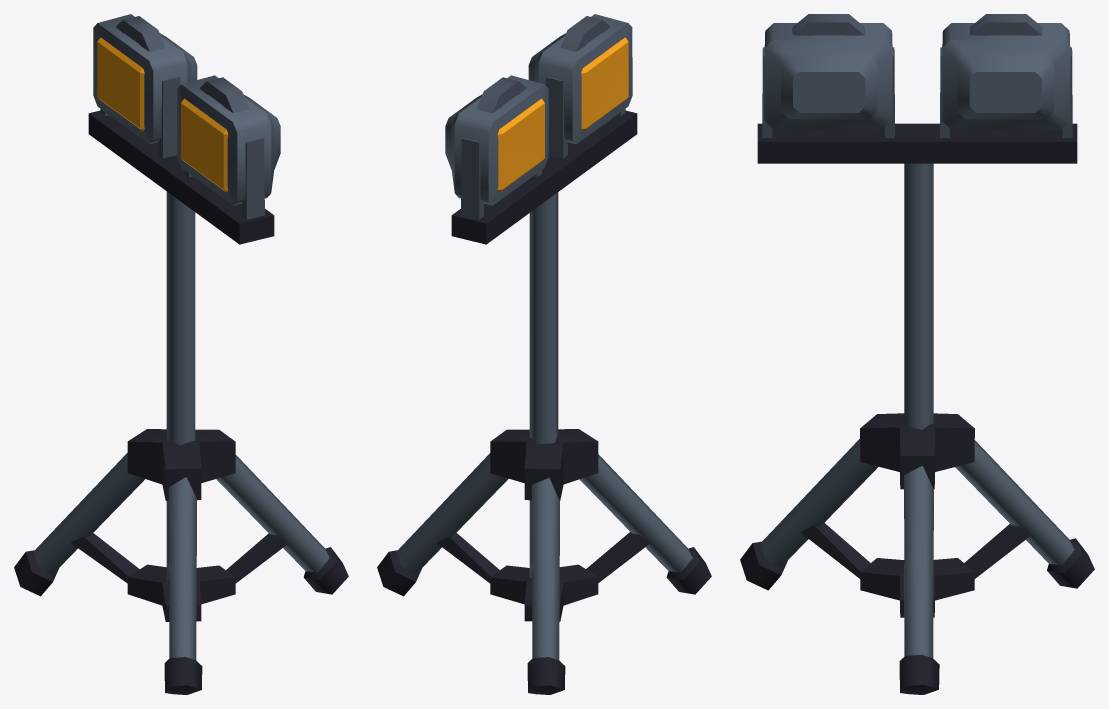
Rendered from LightsC_1_A.glb.
3 renders of one model, left to right at view 1: azimuth 30°, elevation 25°; view 2: azimuth 150°, elevation 25°; view 3: azimuth 270°, elevation 25°, orthographic. The views are drawn at different scales.
Visible parts, largest first — view 1: LightsC_1_A; view 2: LightsC_1_A; view 3: LightsC_1_A.
Part boxes in pixels (bbox=[...]): LightsC_1_A: bbox=[14, 14, 348, 694]; LightsC_1_A: bbox=[377, 14, 711, 694]; LightsC_1_A: bbox=[740, 14, 1094, 694].
Size of the model in its own units: 0.7514 by 1.6 by 0.8505.
Materials: 3 (3 with a texture image).
